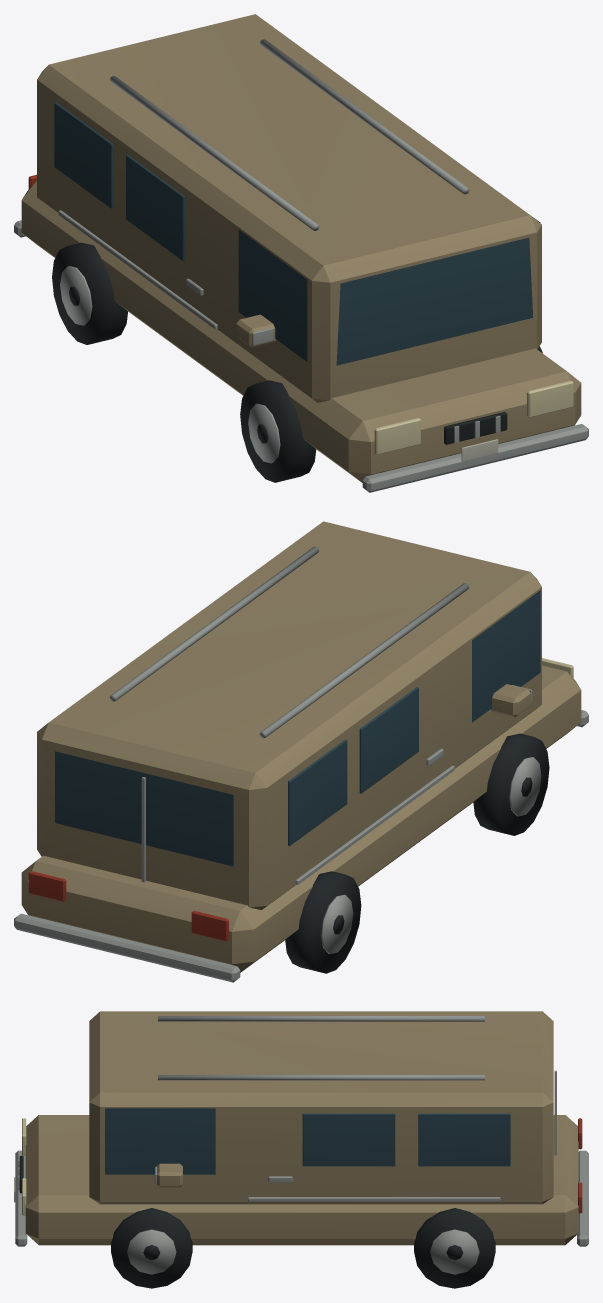
The model's file is car-02-van.glb.
3 views of the same model, one above another, from view 1: azimuth 30°, elevation 25°; view 2: azimuth 150°, elevation 25°; view 3: azimuth 270°, elevation 25° (orthographic). The views are drawn at different scales.
Parts seen in each view (by area): view 1: car-02-van_geometry; view 2: car-02-van_geometry; view 3: car-02-van_geometry.
Part boxes in pixels (x1,y1,x2,y2): car-02-van_geometry: (14, 14, 588, 492); car-02-van_geometry: (14, 521, 588, 982); car-02-van_geometry: (14, 1011, 588, 1288).
Size of the model in its own units: 2.18 by 1.76 by 4.78.
